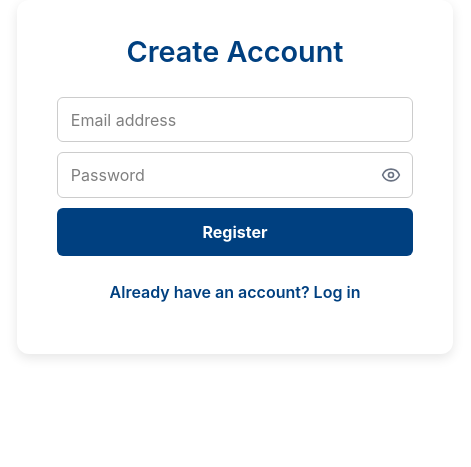
Test: Registration Component › validates password rules
Type "123" into the password field with placeholder "Password" at [235, 175], box [57,152,413,198]
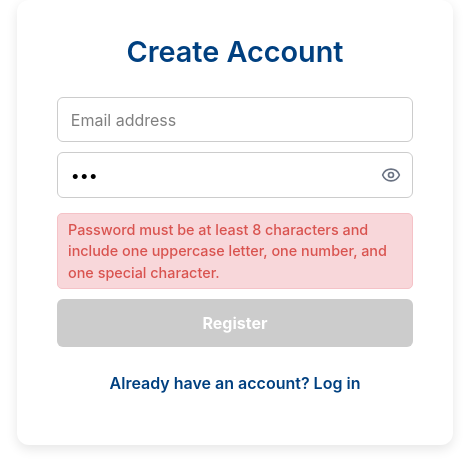
Now the text "Password must be at least 8 characters" is shown, box [68,221,387,281]
